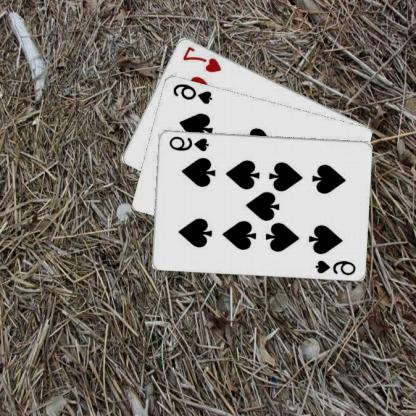6S: (172, 80, 216, 105)
7H: (182, 44, 224, 74)
9S: (168, 133, 212, 152), (314, 257, 358, 276)
